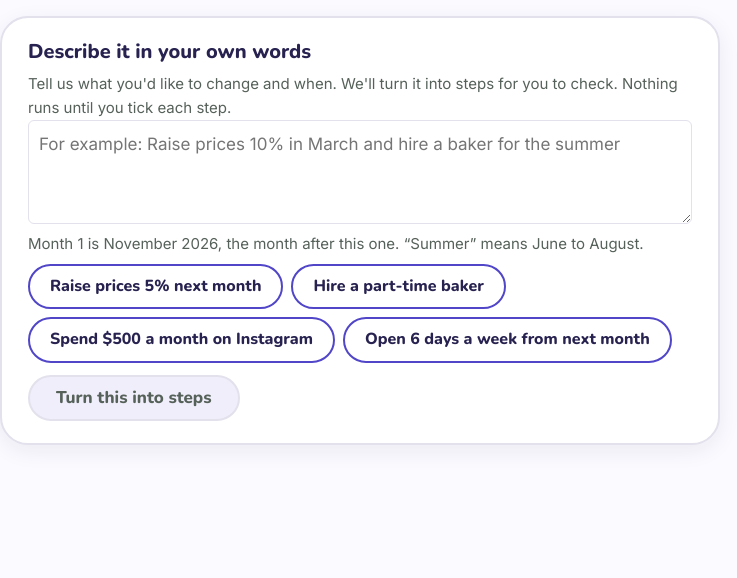
DescribeBox › shows the notes, such as what 'summer' means
Step 1. Type "x" into the text box named "What would you like to change?" → (360, 172), box left=28, top=120, right=692, bottom=224
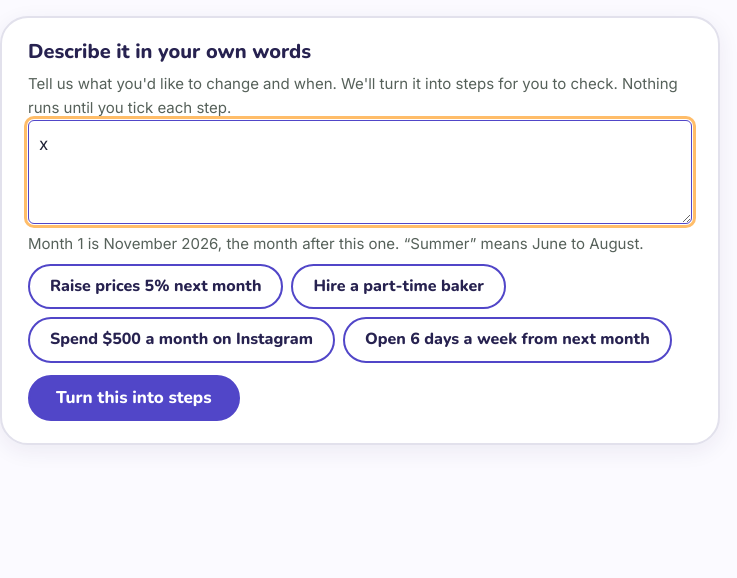
Step 2. Click the button "Turn this into steps" → click(134, 398), box left=28, top=375, right=240, bottom=421
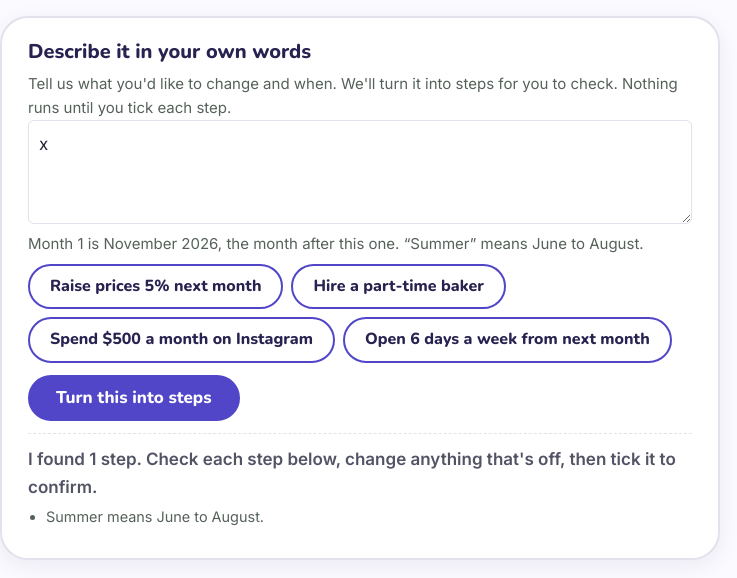
Expected: the list item "Summer means June to August." is shown, left=46, top=508, right=264, bottom=525
